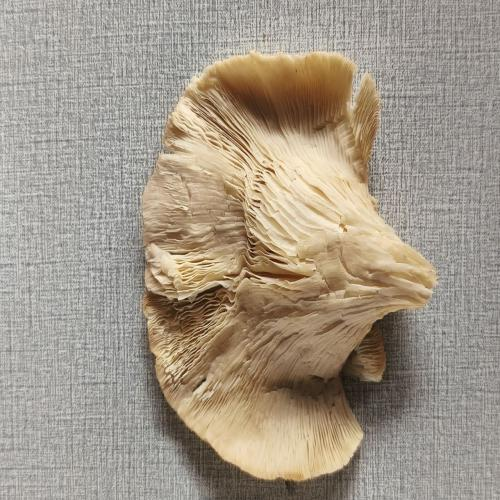Oyster Mushroom: (143, 53, 435, 479)
